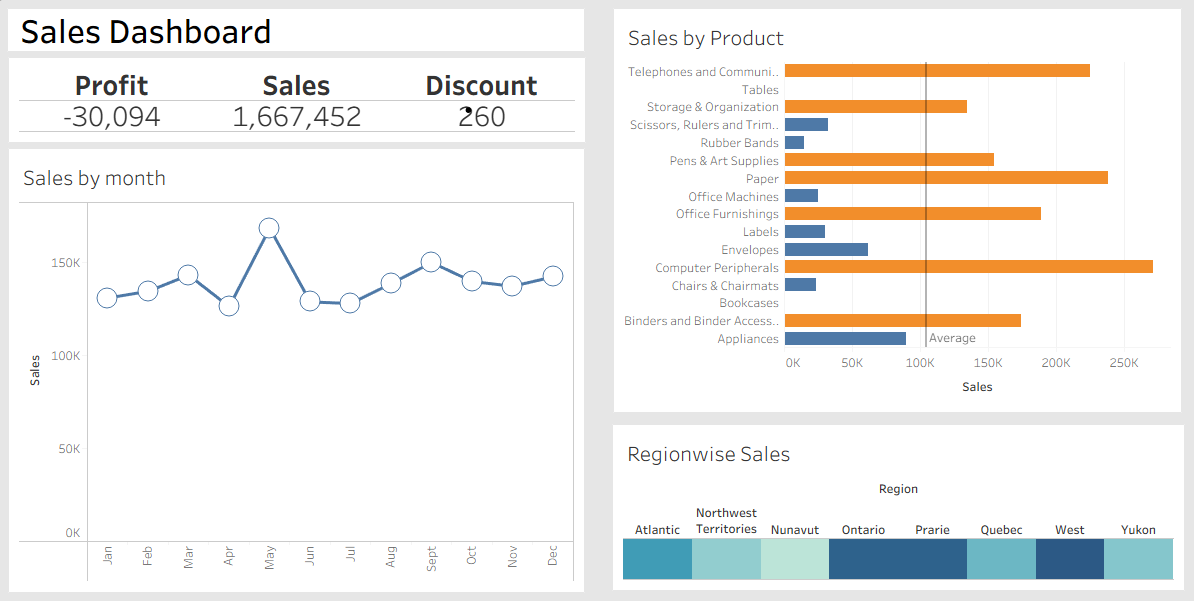

Layout of this report page (visuals, bound fields, positions):
{"tool":"tableau","page":{"name":"Dashboard 1","canvas":[1000,1000],"units":"permille","ordinal":0},"visuals":[{"type":"text","box":[0,0,498.3,106.7]},{"type":"worksheet","title":"Sales by Product","mark":"Automatic","rows":["product_sub-category"],"cols":["sales"],"box":[505,0,490.8,708.3]},{"type":"worksheet","title":"KPI's","mark":"Automatic","box":[0.8,81.7,498.3,176.7]},{"type":"worksheet","title":"Regiowise Sales","mark":"Automatic","cols":["region"],"box":[504.2,693.3,494.2,311.7]}]}

Visuals, with their boxes on the dashboard's canvas, which has no fixed pixel size, in thousandths of its width and height (x1, y1, x2, y2). These are canvas units, not pixel positions in the 1194x601 screenshot, which may show the page scaled, cropped or inside an application window:
text: bbox=[0, 0, 498, 107]
"Sales by Product" worksheet: bbox=[505, 0, 996, 708]
"KPI's" worksheet: bbox=[1, 82, 499, 258]
"Regiowise Sales" worksheet: bbox=[504, 693, 998, 1005]
